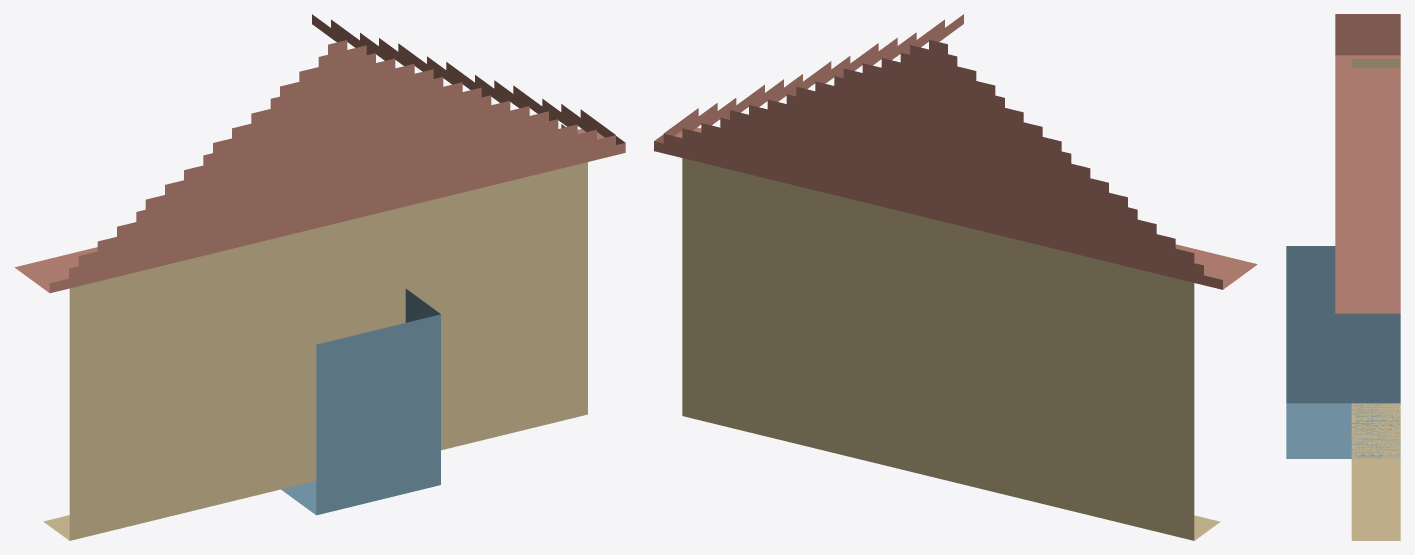
Rendered from casa_por_piezas.glb.
The picture shows the model from 3 angles, left to right: view 1: azimuth 30°, elevation 25°; view 2: azimuth 150°, elevation 25°; view 3: azimuth 270°, elevation 25°; orthographic projection. The views are drawn at different scales.
Parts seen in each view (by area): view 1: 01_Pared, 00_Techo, 02_Puerta; view 2: 01_Pared, 00_Techo; view 3: 00_Techo, 02_Puerta, 01_Pared.
Part boxes in pixels (x1,y1,x2,y2): 01_Pared: (43, 124, 587, 540); 00_Techo: (14, 14, 625, 293); 02_Puerta: (281, 288, 440, 515); 01_Pared: (682, 158, 1220, 540); 00_Techo: (654, 14, 1257, 289); 00_Techo: (1335, 14, 1400, 313); 02_Puerta: (1286, 246, 1400, 458); 01_Pared: (1351, 59, 1400, 540).
Size of the model in its own units: 0.75 by 0.55 by 0.14.
